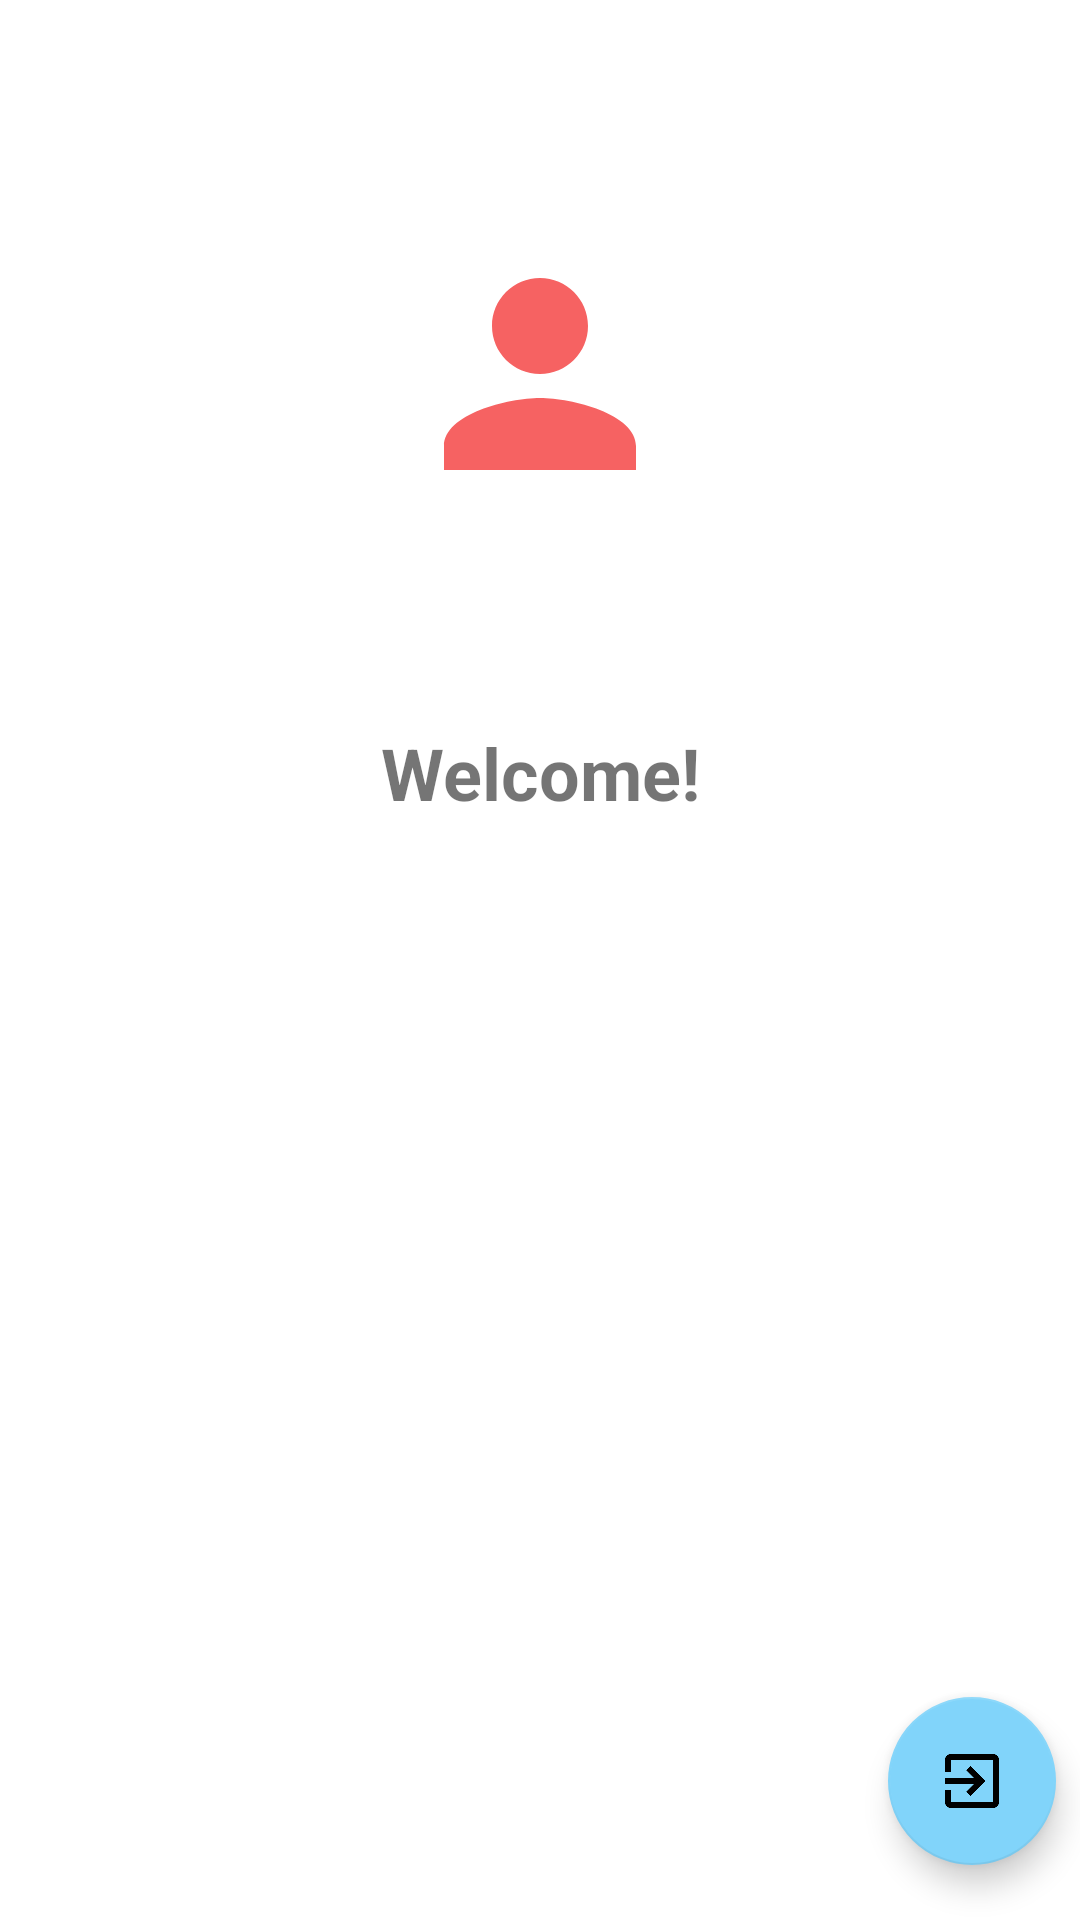

Icon click points for this 1080px×1920px phone screenshot, format point (x, y):
exit to app: point (972, 1781)
profile: point (540, 374)
